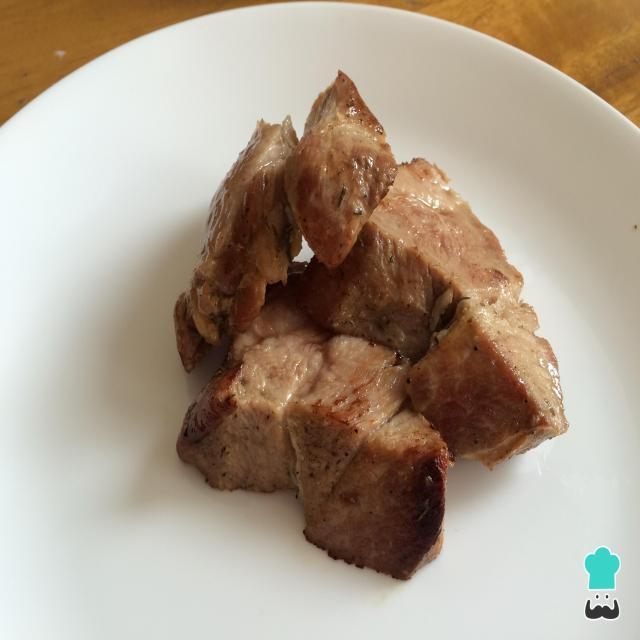carne de cerdo: (170, 61, 578, 599)
